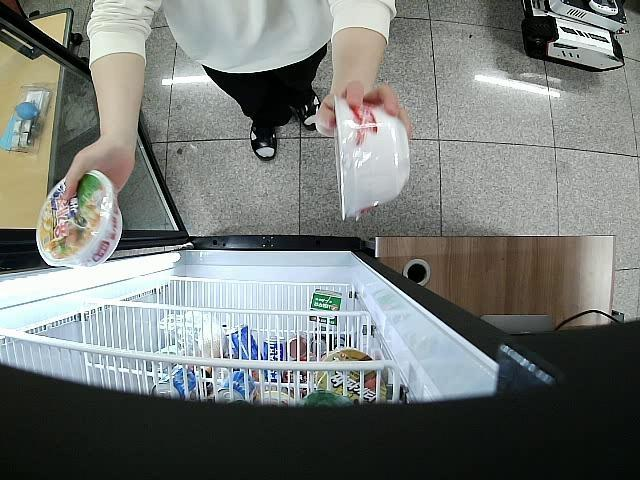09_yukGaeJang: (332, 88, 410, 219), (36, 170, 124, 268)
